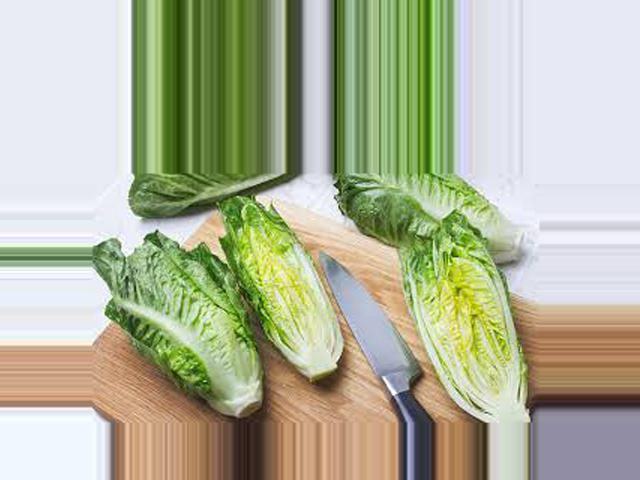lettuce: (336, 180, 520, 260)
